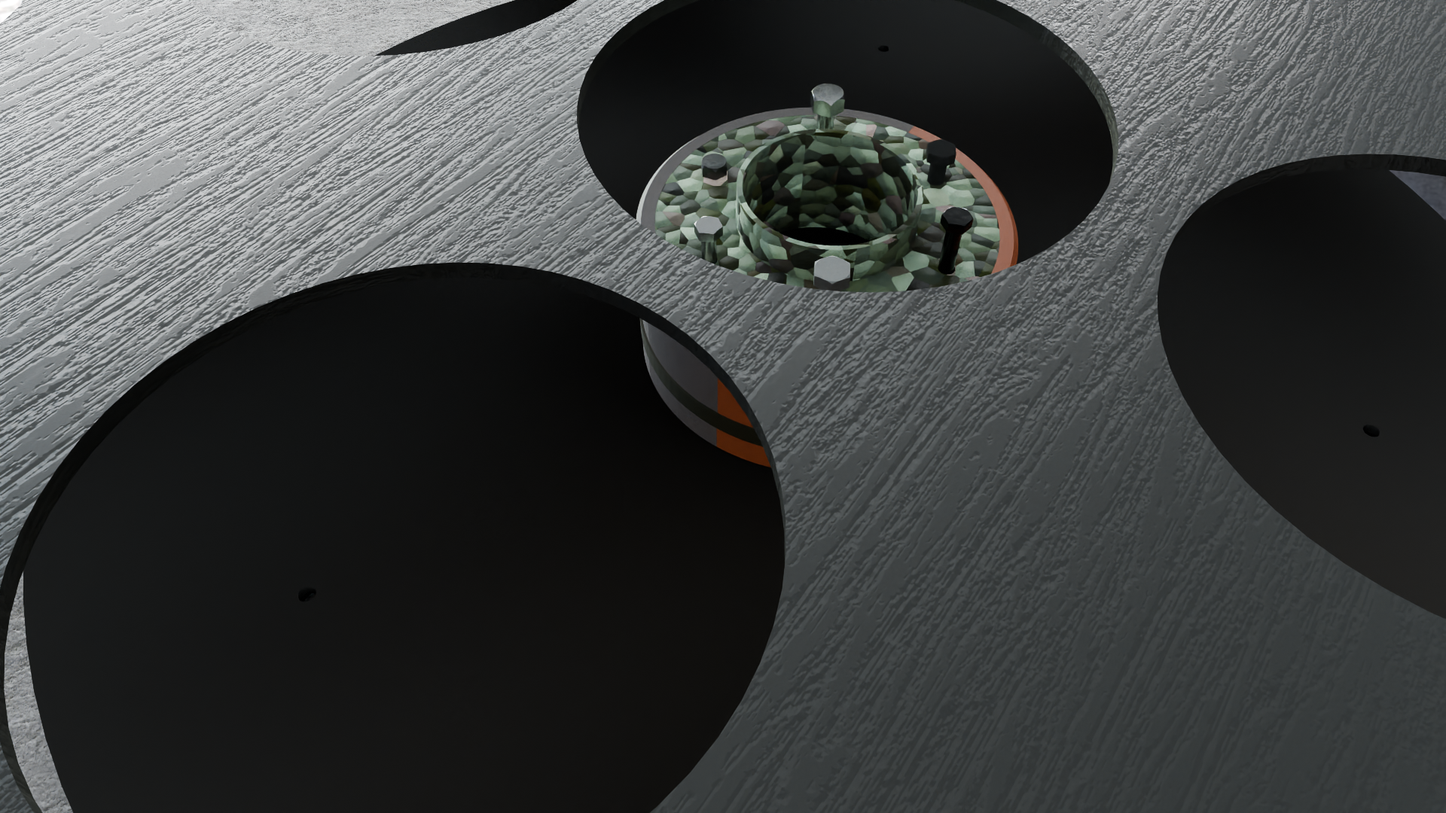bolt: (814, 256, 850, 284), (811, 84, 845, 106), (942, 207, 974, 226), (928, 139, 956, 159), (694, 216, 723, 235), (701, 154, 727, 172)
